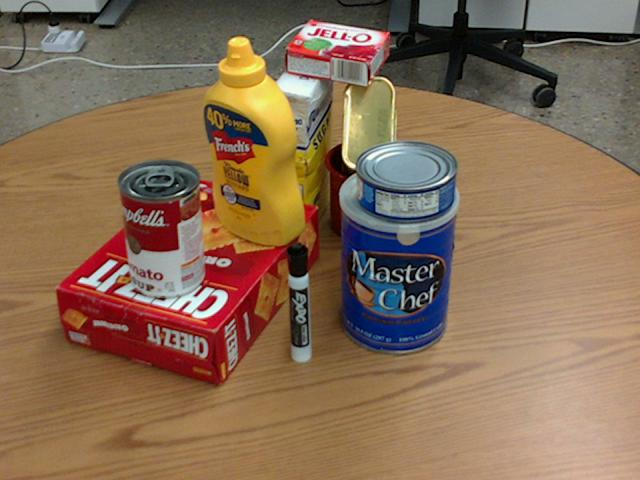cracker_box: (58, 180, 319, 386)
gelatin_box: (282, 21, 388, 86)
large_marker: (287, 242, 311, 362)
master_chef_can: (337, 162, 457, 352)
mug: (326, 137, 435, 241)
mustard_bottle: (200, 37, 303, 244)
potted_meat_can: (340, 77, 394, 192)
sugar_box: (270, 53, 334, 242)
tomato_soup_can: (117, 159, 205, 298)
tuna_fish_can: (354, 139, 457, 221)
